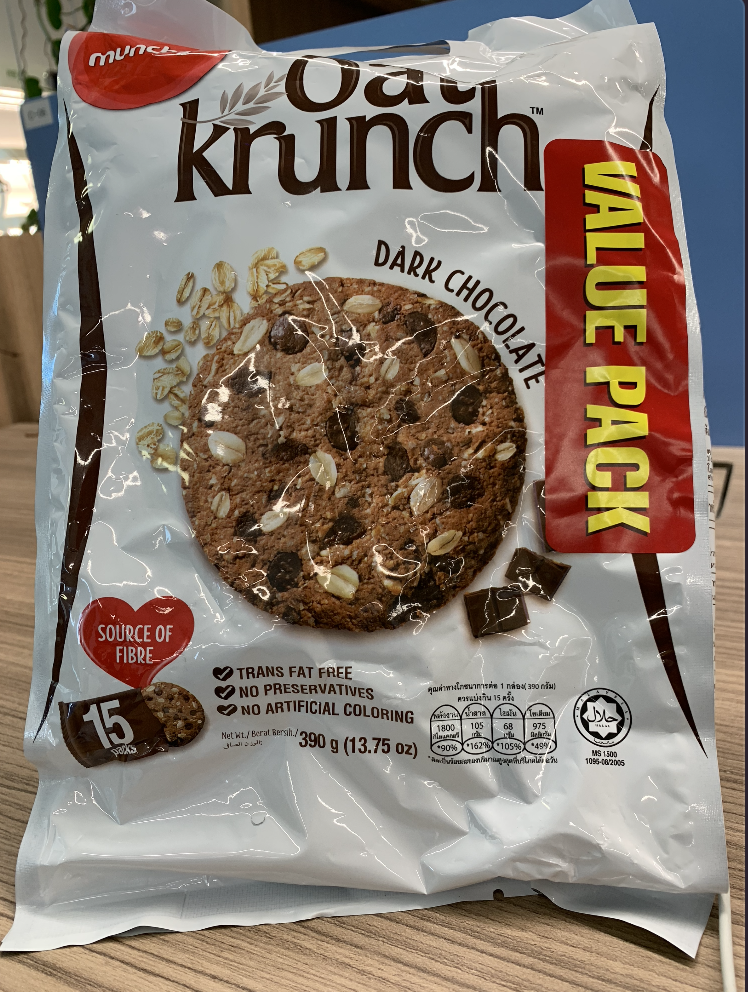cookies_150g: (73, 57, 674, 802)
